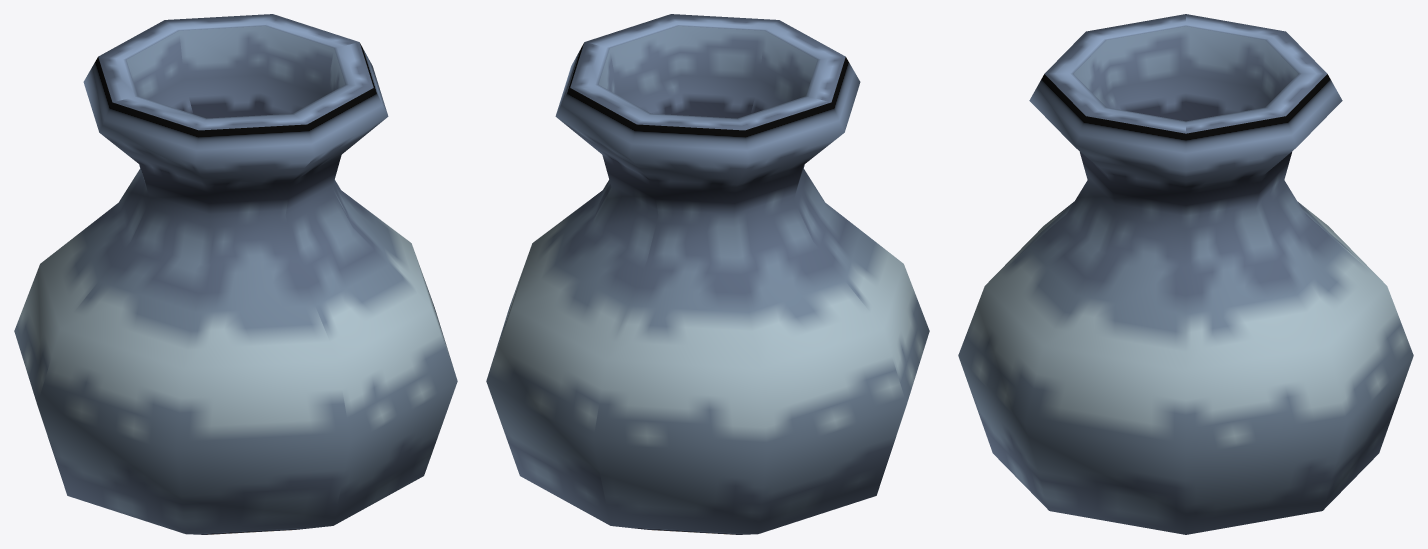
The model's file is deco_vesselB.FBX.
The picture shows the model from 3 angles, left to right: view 1: azimuth 30°, elevation 25°; view 2: azimuth 150°, elevation 25°; view 3: azimuth 270°, elevation 25°; orthographic projection.
Parts seen in each view (by area): view 1: deco_vesselB; view 2: deco_vesselB; view 3: deco_vesselB.
Part boxes in pixels (x1=…): deco_vesselB: x1=14, y1=14, x2=457, y2=534; deco_vesselB: x1=486, y1=14, x2=929, y2=534; deco_vesselB: x1=958, y1=14, x2=1413, y2=534.
Bounding box in the file's own units: 1.41 × 1.41 × 1.41.
1 material, 1 textured.
